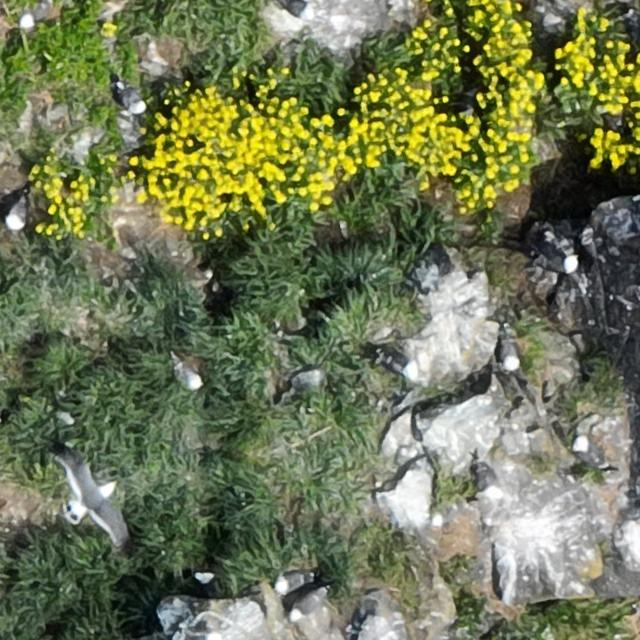F: (68, 462, 124, 543)
umineko: (289, 586, 329, 629), (472, 460, 505, 501), (373, 349, 421, 377), (21, 3, 50, 28), (538, 255, 576, 273), (119, 85, 144, 112), (177, 363, 202, 389), (8, 196, 28, 228), (277, 572, 308, 592), (578, 443, 604, 466), (279, 1, 311, 19), (502, 337, 518, 369)
